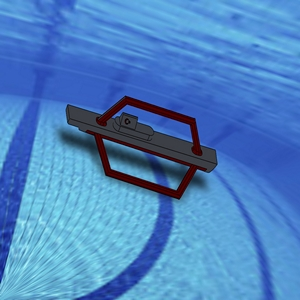submarine: (52, 78, 233, 214)
